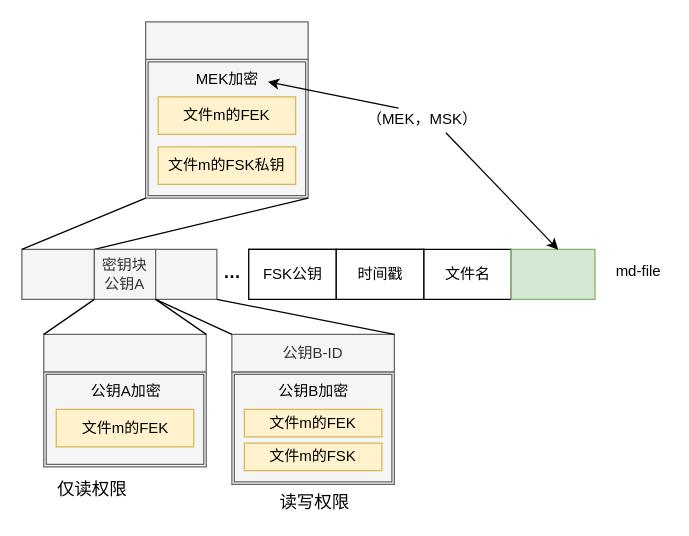
The diagram is 689 pixels wide and 536 high, and some of its shapes have lost their labels. Each missing label, with the centre of its shape:
公钥A-ID: the point at 124,352
密钥块 DO: the point at 57,273
密钥块 公钥B: the point at 185,273
数据所有者ID: the point at 226,40
签名块 DO: the point at 552,273
